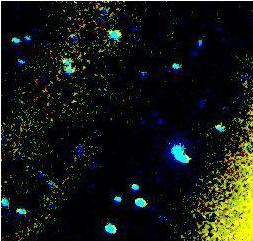star: (135, 104, 165, 134)
